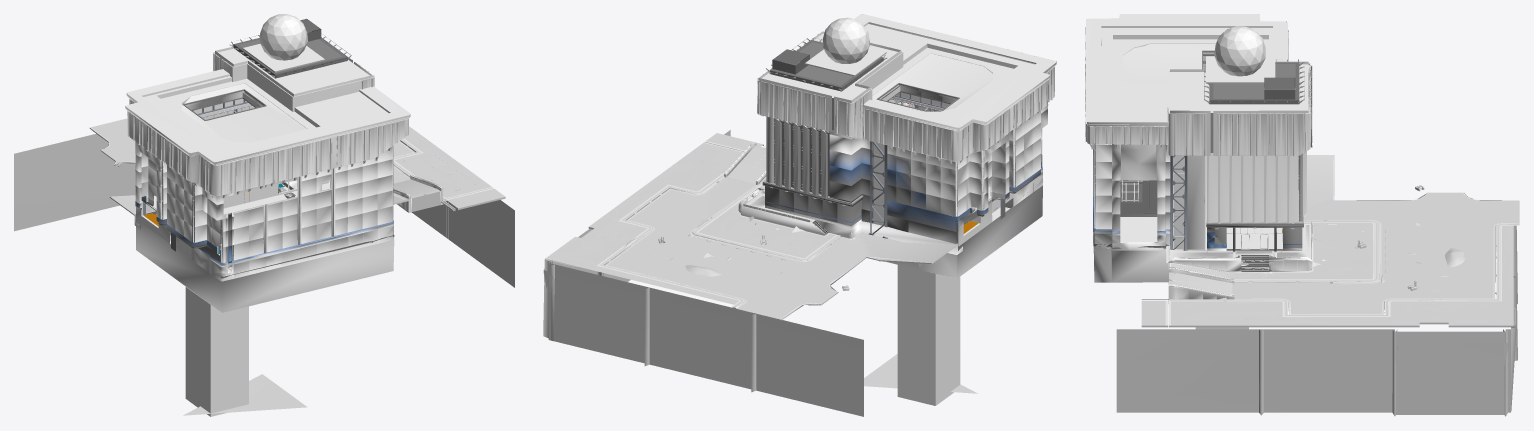
File: cell_82_57.fbx
The picture shows the model from 3 angles, left to right: view 1: azimuth 30°, elevation 25°; view 2: azimuth 150°, elevation 25°; view 3: azimuth 270°, elevation 25°; orthographic projection. The views are drawn at different scales.
Parts seen in each view (by area): view 1: SM_H_Building_FutureTech_HLight_01_ExterWall_01C.mo, SM_H_Building_FutureTech_HLight_01_ExterWall_02C.mo, SM_I_RoadFacility_Ground_R_02Ji.mo, SM_H_Building_FutureTech_HLight_01_InterWall_04H.mo, SM_I_RoadFacility_Ground_H_08A.mo, SM_H_Building_FutureTech_HLight_01_ExterWall_06.mo, SM_H_Building_FutureTech_HLight_01_Water_01.mo, SM_I_RoadFacility_Ground_H_21.mo.001, SM_I_RoadFacility_Ground_H_08B.mo; view 2: SM_H_Building_FutureTech_HLight_01_ExterWall_01C.mo, SM_I_RoadFacility_Ground_H_08A.mo, SM_H_Building_FutureTech_HLight_01_ExterWall_02C.mo, SM_I_RoadFacility_Ground_R_02Ji.mo, SM_I_RoadFacility_Ground_R_02Ji_Decal.mo, SM_H_Building_FutureTech_HLight_01_ExterWall_06.mo, SM_H_Building_FutureTech_HLight_01_InterWall_04H.mo, SM_I_RoadFacility_Ground_H_08B.mo, SM_I_RoadFacility_Ground_H_06.mo, SM_H_Building_FutureTech_HLight_01_ExterWall_04.mo, SM_I_RoadFacility_Ground_H_08C.mo, SM_I_RoadFacility_Ground_H_21.mo.001 (+1 smaller); view 3: SM_I_RoadFacility_Ground_H_08A.mo, SM_I_RoadFacility_Ground_R_02Ji.mo, SM_H_Building_FutureTech_HLight_01_ExterWall_02C.mo, SM_H_Building_FutureTech_HLight_01_ExterWall_01C.mo, SM_I_RoadFacility_Ground_R_02Ji_Decal.mo, SM_H_Building_FutureTech_HLight_01_ExterWall_06.mo, SM_I_RoadFacility_Ground_H_08B.mo, SM_I_RoadFacility_Ground_H_06.mo, SM_H_Building_FutureTech_HLight_01_InterWall_04H.mo, SM_H_Building_FutureTech_HLight_01_ExterWall_04.mo, SM_I_RoadFacility_Ground_H_21.mo.001, SM_I_RoadFacility_Ground_H_08C.mo (+3 smaller).
Part boxes in pixels (box(x1,y1,x2,y2)): SM_H_Building_FutureTech_HLight_01_ExterWall_01C.mo: box(135, 76, 394, 416); SM_H_Building_FutureTech_HLight_01_ExterWall_02C.mo: box(125, 37, 410, 278); SM_I_RoadFacility_Ground_R_02Ji.mo: box(14, 134, 514, 287); SM_H_Building_FutureTech_HLight_01_InterWall_04H.mo: box(146, 83, 331, 259); SM_I_RoadFacility_Ground_H_08A.mo: box(89, 118, 505, 216); SM_H_Building_FutureTech_HLight_01_ExterWall_06.mo: box(229, 14, 351, 78); SM_H_Building_FutureTech_HLight_01_Water_01.mo: box(183, 374, 307, 415); SM_I_RoadFacility_Ground_H_21.mo.001: box(393, 174, 443, 212); SM_I_RoadFacility_Ground_H_08B.mo: box(90, 127, 493, 208); SM_H_Building_FutureTech_HLight_01_ExterWall_01C.mo: box(766, 24, 1047, 405); SM_I_RoadFacility_Ground_H_08A.mo: box(545, 133, 957, 320); SM_H_Building_FutureTech_HLight_01_ExterWall_02C.mo: box(757, 14, 1056, 238); SM_I_RoadFacility_Ground_R_02Ji.mo: box(543, 130, 863, 416); SM_I_RoadFacility_Ground_R_02Ji_Decal.mo: box(543, 269, 863, 368); SM_H_Building_FutureTech_HLight_01_ExterWall_06.mo: box(766, 17, 887, 91); SM_H_Building_FutureTech_HLight_01_InterWall_04H.mo: box(872, 53, 1033, 217); SM_I_RoadFacility_Ground_H_08B.mo: box(597, 141, 942, 319); SM_I_RoadFacility_Ground_H_06.mo: box(738, 188, 962, 254); SM_H_Building_FutureTech_HLight_01_ExterWall_04.mo: box(762, 179, 863, 228); SM_I_RoadFacility_Ground_H_08C.mo: box(549, 174, 951, 305); SM_I_RoadFacility_Ground_H_21.mo.001: box(724, 142, 766, 184); SM_I_RoadFacility_Ground_H_08A.mo: box(1141, 155, 1519, 327); SM_I_RoadFacility_Ground_R_02Ji.mo: box(1116, 225, 1517, 416); SM_H_Building_FutureTech_HLight_01_ExterWall_02C.mo: box(1085, 14, 1312, 250); SM_H_Building_FutureTech_HLight_01_ExterWall_01C.mo: box(1089, 26, 1302, 329); SM_I_RoadFacility_Ground_R_02Ji_Decal.mo: box(1116, 339, 1516, 362); SM_H_Building_FutureTech_HLight_01_ExterWall_06.mo: box(1204, 26, 1304, 104); SM_I_RoadFacility_Ground_H_08B.mo: box(1142, 159, 1519, 325); SM_I_RoadFacility_Ground_H_06.mo: box(1166, 214, 1312, 277); SM_H_Building_FutureTech_HLight_01_InterWall_04H.mo: box(1123, 44, 1215, 82); SM_H_Building_FutureTech_HLight_01_ExterWall_04.mo: box(1206, 216, 1303, 251); SM_I_RoadFacility_Ground_H_21.mo.001: box(1168, 267, 1234, 303); SM_I_RoadFacility_Ground_H_08C.mo: box(1232, 155, 1515, 323).
Bounding box in the file's own units: 114 × 119 × 120.
